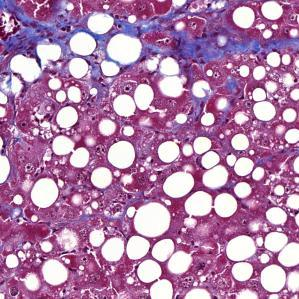fibrosis: (144, 19, 243, 66)
